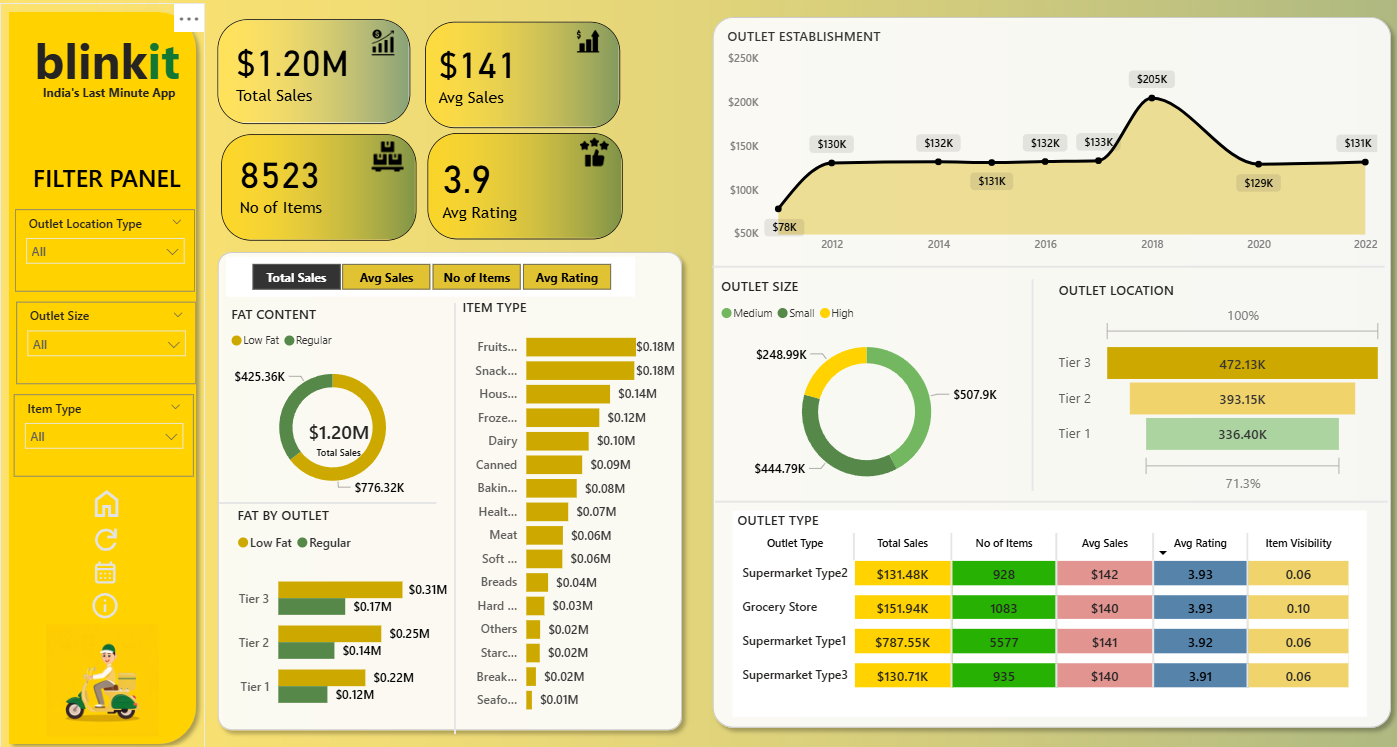

Layout of this report page (visuals, bound fields, positions):
{"tool":"powerbi","page":{"name":"Page 1","canvas":[1400,750],"ordinal":0},"visuals":[{"type":"image","box":[218,21,193,104.6],"z":0},{"type":"shape","box":[0,5,205,750],"z":1000},{"type":"textbox","box":[23.2,23.8,166.8,82.5],"z":2000},{"type":"textbox","box":[35,80,148.2,32.5],"z":3000},{"type":"PBI_CV_7B952816_A48F_49B4_9E13_15E3BB2C0337","fields":{"Values":["BlinkIT Grocery Data.Total Sales"]},"box":[215.8,24.9,167.5,93.8],"z":4000},{"type":"image","box":[425,23.8,195,106.2],"z":5000},{"type":"image","box":[221.6,136.6,195,106],"z":6000},{"type":"image","box":[427,135.6,195,106],"z":7000},{"type":"PBI_CV_7B952816_A48F_49B4_9E13_15E3BB2C0337","fields":{"Values":["BlinkIT Grocery Data.Avg Sales"]},"box":[433.7,28,158.8,98.8],"z":8000},{"type":"PBI_CV_7B952816_A48F_49B4_9E13_15E3BB2C0337","fields":{"Values":["BlinkIT Grocery Data.No of Items"]},"box":[230,140,157.5,93.8],"z":9000},{"type":"PBI_CV_7B952816_A48F_49B4_9E13_15E3BB2C0337","fields":{"Values":["BlinkIT Grocery Data.Avg Rating"]},"box":[437.4,142.6,165,95],"z":10000},{"type":"image","box":[571.1,31.1,33.3,24.2],"z":11000},{"type":"image","box":[367.3,30.7,31.1,26.7],"z":12000},{"type":"image","box":[370,142.2,34.4,32],"z":13000},{"type":"image","box":[579.6,132.2,28.9,43.3],"z":14000},{"type":"shape","box":[208.8,245,482.2,496.2],"z":15000},{"type":"donutChart","title":"FAT CONTENT","fields":{"Y":["BlinkIT Grocery Data.Total Sales"],"Category":["BlinkIT Grocery Data.Item Fat Content"]},"box":[226.2,306.2,213,201.2],"z":16000},{"type":"slicer","fields":{"Values":["Metrics.Metrics"]},"box":[226.2,258.3,408.8,40],"z":17000},{"type":"PBI_CV_7B952816_A48F_49B4_9E13_15E3BB2C0337","fields":{"Values":["BlinkIT Grocery Data.Total Sales"]},"box":[302.7,401.7,73.8,72.5],"z":18000},{"type":"clusteredBarChart","title":"FAT BY OUTLET","fields":{"Y":["BlinkIT Grocery Data.Total Sales"],"Category":["BlinkIT Grocery Data.Outlet Location Type"],"Series":["BlinkIT Grocery Data.Item Fat Content"]},"box":[232.5,508,220,222],"z":19000},{"type":"shape","box":[218.2,481,217.5,47.5],"z":20000},{"type":"shape","box":[357.5,305,195,431.2],"z":21000},{"type":"barChart","title":"ITEM TYPE","fields":{"Y":["BlinkIT Grocery Data.Total Sales"],"Category":["BlinkIT Grocery Data.Item Type"]},"box":[457.5,300,222.5,426.2],"z":22000},{"type":"shape","box":[703.7,10.5,696.2,728.8],"z":23000},{"type":"lineChart","title":"OUTLET ESTABLISHMENT","fields":{"Category":["BlinkIT Grocery Data.Outlet Establishment Year"],"Y":["BlinkIT Grocery Data.Total Sales"]},"box":[722.5,28.8,660,235],"z":24000},{"type":"shape","box":[712.5,233.8,672,70],"z":25000},{"type":"donutChart","title":"OUTLET SIZE","fields":{"Y":["BlinkIT Grocery Data.Total Sales"],"Category":["BlinkIT Grocery Data.Outlet Size"]},"box":[716.2,278.8,301,225],"z":26000},{"type":"shape","box":[935,281.2,195,211.8],"z":27000},{"type":"funnel","title":"OUTLET LOCATION","fields":{"Y":["Sum(BlinkIT Grocery Data.Sales)"],"Category":["BlinkIT Grocery Data.Outlet Location Type"]},"box":[1053.3,282.5,334.2,218.8],"z":28000},{"type":"shape","box":[714.5,468.8,672.5,70],"z":29000},{"type":"pivotTable","title":"OUTLET TYPE","fields":{"Rows":["BlinkIT Grocery Data.Outlet Type"],"Values":["BlinkIT Grocery Data.Total Sales","BlinkIT Grocery Data.No of Items","BlinkIT Grocery Data.Avg Sales","BlinkIT Grocery Data.Avg Rating","Avg(BlinkIT Grocery Data.Item Visibility)"]},"box":[732.5,512.5,634.8,206.2],"z":30000},{"type":"slicer","fields":{"Values":["BlinkIT Grocery Data.Outlet Location Type"]},"box":[15.3,211,180,82.5],"z":31000},{"type":"slicer","fields":{"Values":["BlinkIT Grocery Data.Outlet Size"]},"box":[16,303.3,180,82.5],"z":32000},{"type":"slicer","fields":{"Values":["BlinkIT Grocery Data.Item Type"]},"box":[13.3,395.8,180,82.5],"z":33000},{"type":"textbox","box":[21.2,159.2,171.2,46.2],"z":34000},{"type":"image","box":[84.4,487.8,43.3,35.8],"z":35000},{"type":"image","box":[78,524.4,56.7,33.3],"z":36000},{"type":"image","box":[81.6,561.3,47.8,26.7],"z":37000},{"type":"image","box":[84.7,592.2,40,30],"z":38000},{"type":"image","box":[36.4,625.8,132.2,112.2],"z":38001}]}

Visuals, with their boxes in screenshot pixels (x1, y1, x2, y2), scaled from the page's 1400x750 canvas onto the 1397x747 screenshot:
image: {"left": 218, "top": 21, "right": 410, "bottom": 125}
shape: {"left": 0, "top": 5, "right": 205, "bottom": 746}
textbox: {"left": 23, "top": 24, "right": 190, "bottom": 106}
textbox: {"left": 35, "top": 80, "right": 183, "bottom": 112}
PBI_CV_7B952816_A48F_49B4_9E13_15E3BB2C0337 - BlinkIT Grocery Data.Total Sales: {"left": 215, "top": 25, "right": 382, "bottom": 118}
image: {"left": 424, "top": 24, "right": 619, "bottom": 129}
image: {"left": 221, "top": 136, "right": 416, "bottom": 242}
image: {"left": 426, "top": 135, "right": 621, "bottom": 241}
PBI_CV_7B952816_A48F_49B4_9E13_15E3BB2C0337 - BlinkIT Grocery Data.Avg Sales: {"left": 433, "top": 28, "right": 591, "bottom": 126}
PBI_CV_7B952816_A48F_49B4_9E13_15E3BB2C0337 - BlinkIT Grocery Data.No of Items: {"left": 230, "top": 139, "right": 387, "bottom": 233}
PBI_CV_7B952816_A48F_49B4_9E13_15E3BB2C0337 - BlinkIT Grocery Data.Avg Rating: {"left": 436, "top": 142, "right": 601, "bottom": 237}
image: {"left": 570, "top": 31, "right": 603, "bottom": 55}
image: {"left": 367, "top": 31, "right": 398, "bottom": 57}
image: {"left": 369, "top": 142, "right": 404, "bottom": 174}
image: {"left": 578, "top": 132, "right": 607, "bottom": 175}
shape: {"left": 208, "top": 244, "right": 690, "bottom": 738}
"FAT CONTENT" donutChart: {"left": 226, "top": 305, "right": 438, "bottom": 505}
slicer - Metrics.Metrics: {"left": 226, "top": 257, "right": 634, "bottom": 297}
PBI_CV_7B952816_A48F_49B4_9E13_15E3BB2C0337 - BlinkIT Grocery Data.Total Sales: {"left": 302, "top": 400, "right": 376, "bottom": 472}
"FAT BY OUTLET" clusteredBarChart: {"left": 232, "top": 506, "right": 452, "bottom": 727}
shape: {"left": 218, "top": 479, "right": 435, "bottom": 526}
shape: {"left": 357, "top": 304, "right": 551, "bottom": 733}
"ITEM TYPE" barChart: {"left": 457, "top": 299, "right": 679, "bottom": 723}
shape: {"left": 702, "top": 10, "right": 1396, "bottom": 736}
"OUTLET ESTABLISHMENT" lineChart: {"left": 721, "top": 29, "right": 1380, "bottom": 263}
shape: {"left": 711, "top": 233, "right": 1382, "bottom": 303}
"OUTLET SIZE" donutChart: {"left": 715, "top": 278, "right": 1015, "bottom": 502}
shape: {"left": 933, "top": 280, "right": 1128, "bottom": 491}
"OUTLET LOCATION" funnel: {"left": 1051, "top": 281, "right": 1385, "bottom": 499}
shape: {"left": 713, "top": 467, "right": 1384, "bottom": 537}
"OUTLET TYPE" pivotTable: {"left": 731, "top": 510, "right": 1364, "bottom": 716}
slicer - BlinkIT Grocery Data.Outlet Location Type: {"left": 15, "top": 210, "right": 195, "bottom": 292}
slicer - BlinkIT Grocery Data.Outlet Size: {"left": 16, "top": 302, "right": 196, "bottom": 384}
slicer - BlinkIT Grocery Data.Item Type: {"left": 13, "top": 394, "right": 193, "bottom": 476}
textbox: {"left": 21, "top": 159, "right": 192, "bottom": 205}
image: {"left": 84, "top": 486, "right": 127, "bottom": 522}
image: {"left": 78, "top": 522, "right": 134, "bottom": 555}
image: {"left": 81, "top": 559, "right": 129, "bottom": 586}
image: {"left": 85, "top": 590, "right": 124, "bottom": 620}
image: {"left": 36, "top": 623, "right": 168, "bottom": 735}
